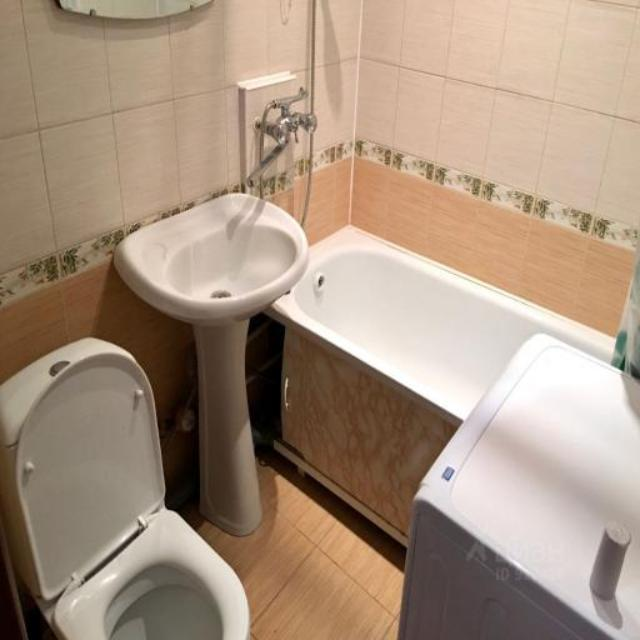Washing-Machine: (398, 333, 640, 639)
